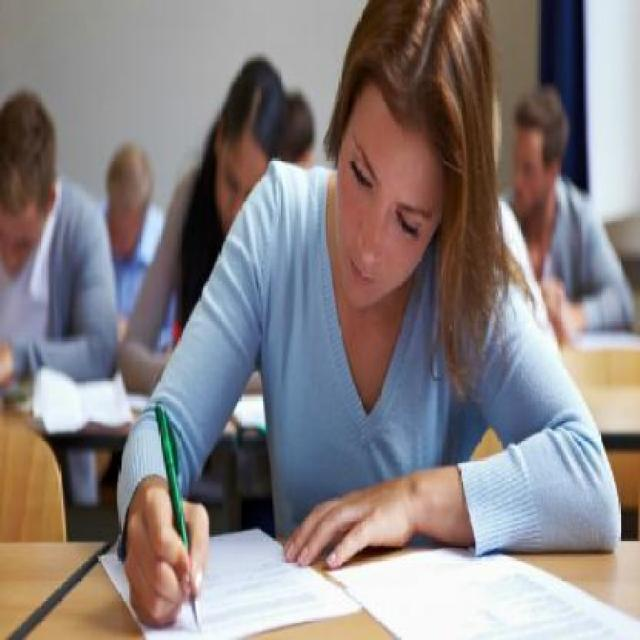good: (97, 2, 640, 640)
